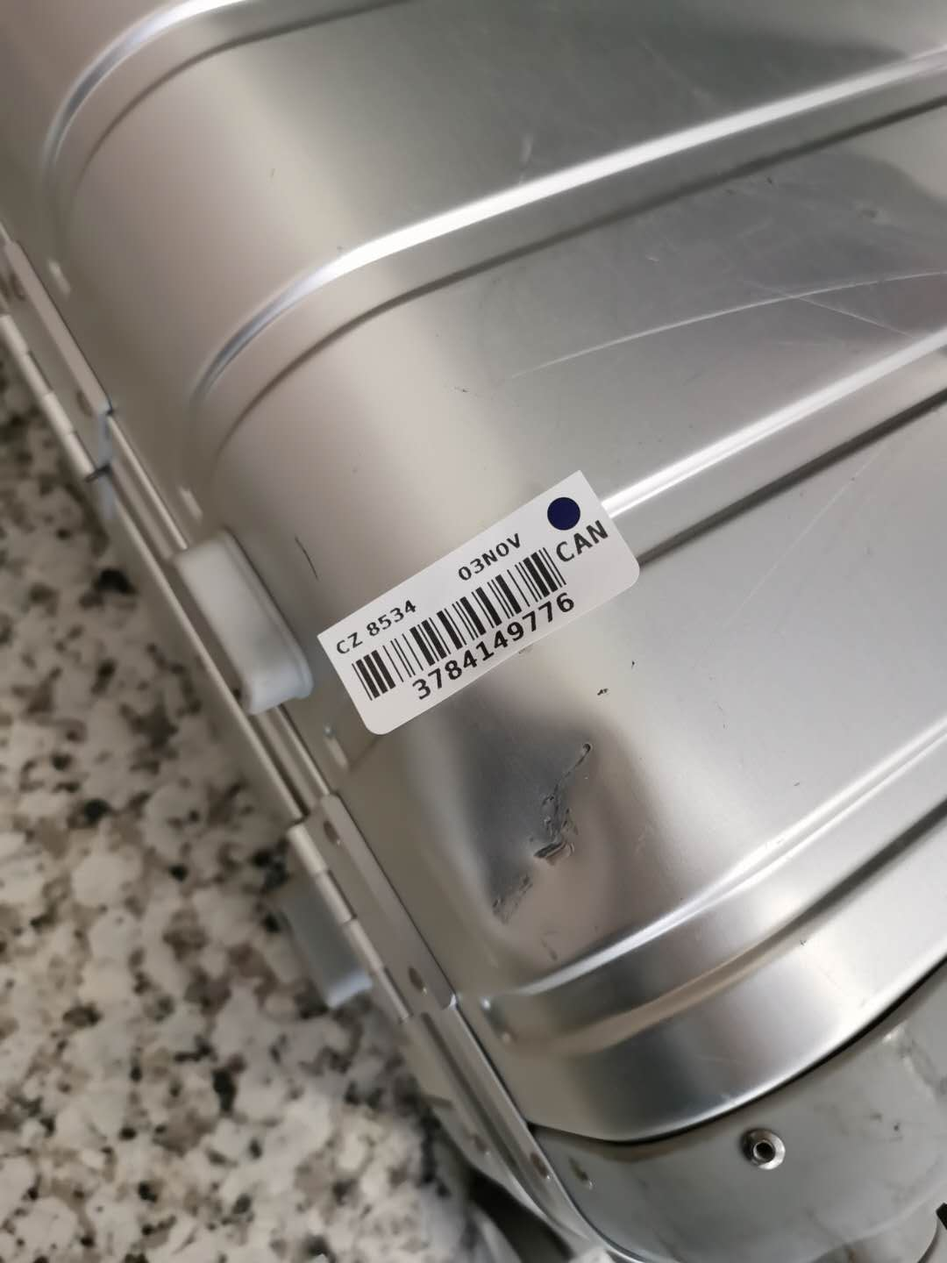rupture: (441, 686, 627, 959)
